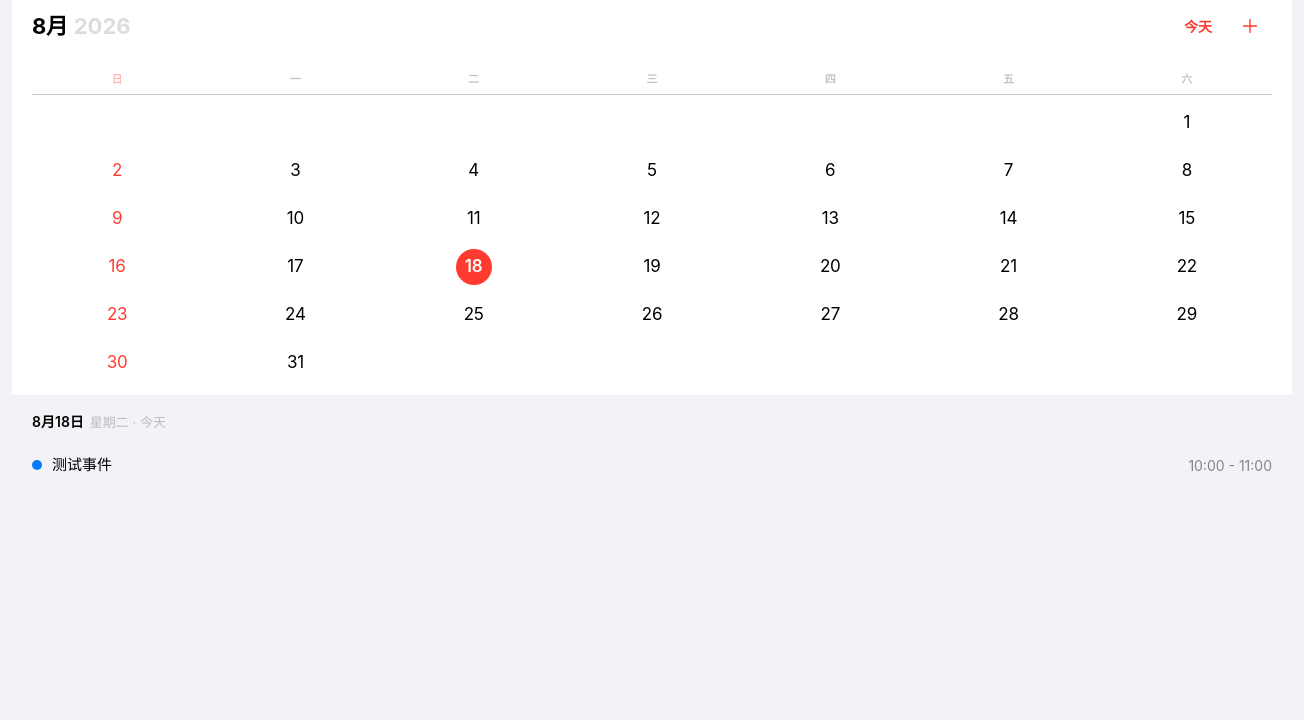
Test case: CalendarApp › navigates to event detail when event row is clicked
Click the button with test id "event-row-test-event" at (82, 464), box [12,442,1292,488]
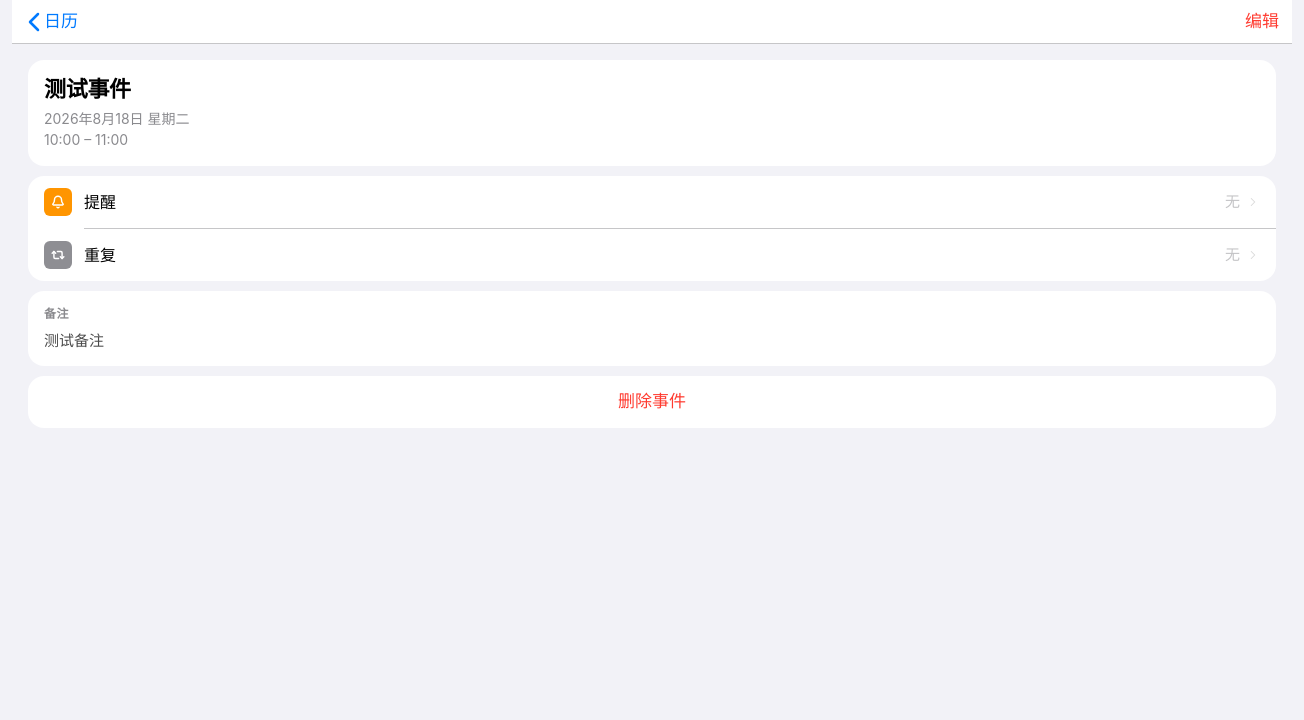
Now the text "测试备注" is shown, box [44,331,104,350]
